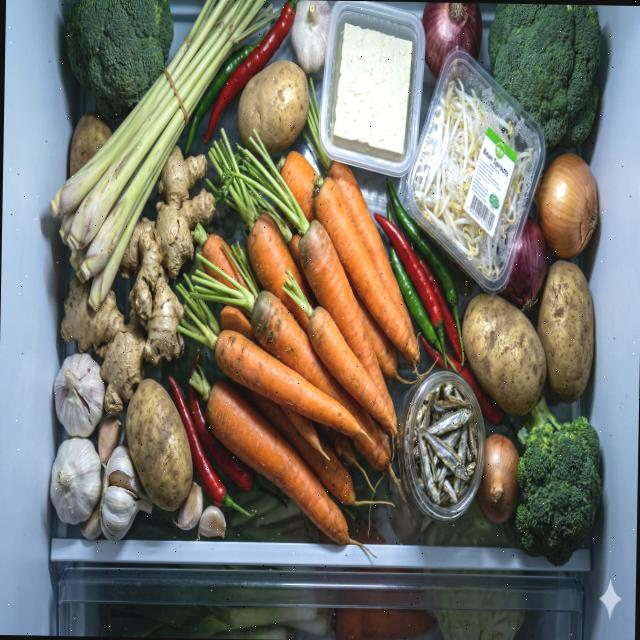anchovies: (411, 382, 480, 510)
bean_sprouts: (412, 76, 536, 280)
brocolli: (485, 4, 602, 150), (516, 396, 603, 568), (65, 0, 174, 116)
carrot: (170, 75, 425, 548)
chili: (371, 178, 513, 425), (168, 346, 290, 522), (185, 0, 297, 157)
garlic: (48, 351, 156, 543), (172, 482, 226, 540), (289, 0, 331, 74)
ginger: (59, 142, 218, 418)
lemongrass: (46, 0, 281, 317)
onion: (532, 151, 598, 260), (419, 1, 482, 80), (498, 214, 548, 310), (476, 432, 520, 528)
potato: (460, 256, 596, 418), (124, 378, 196, 511), (237, 59, 310, 154), (68, 110, 112, 178)
tofu: (331, 21, 413, 158)
